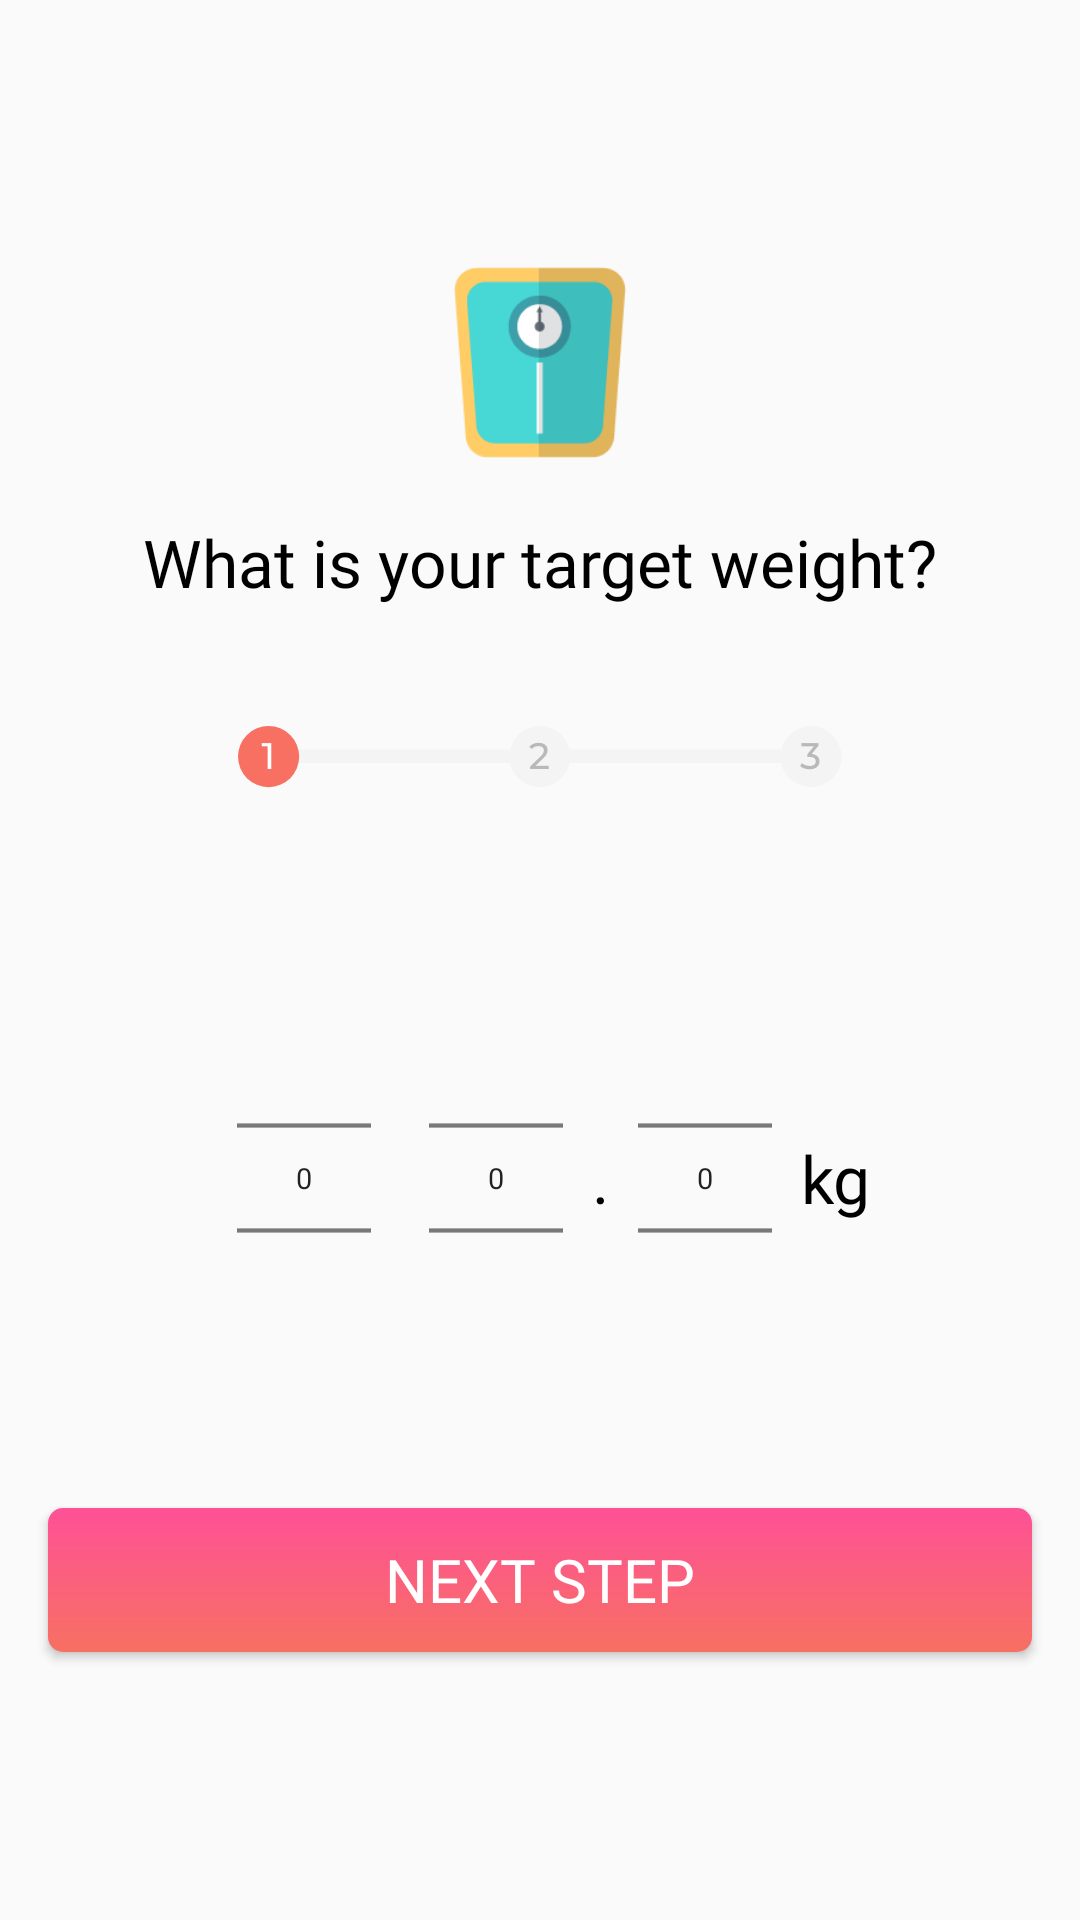

Where to tap for icons on this 1080w x 1920h app screen, as point (x, y):
scale: point (540, 362)
